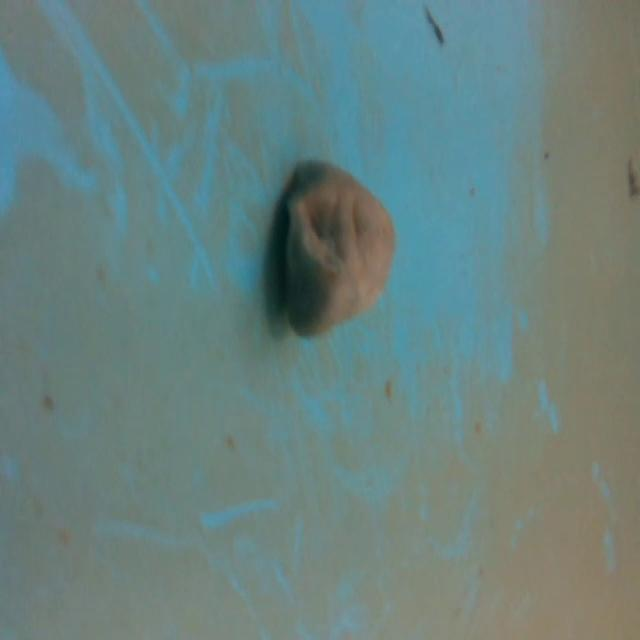rock: (262, 154, 401, 349)
